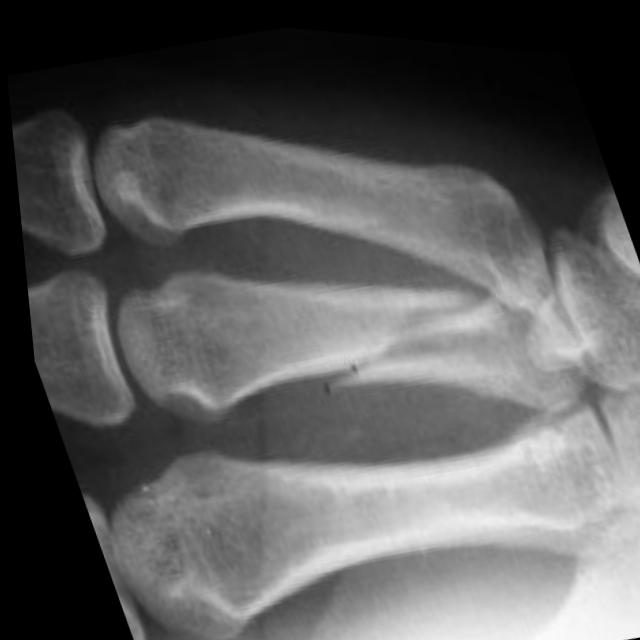fracture: (283, 254, 505, 416)
